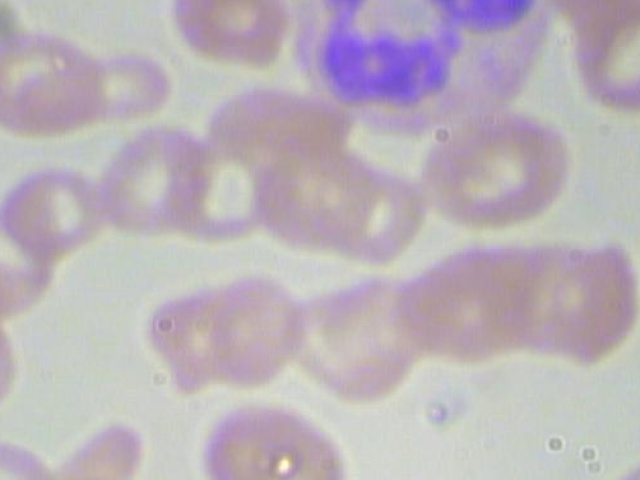WBC: (288, 0, 550, 139)
